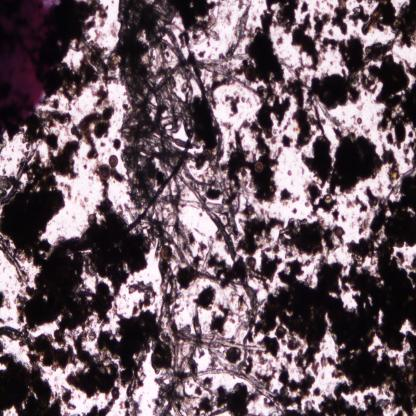Background material: (254, 258, 416, 416), (0, 234, 121, 398), (116, 2, 231, 153), (0, 110, 106, 254), (227, 13, 292, 203), (151, 231, 259, 342), (92, 309, 185, 413), (82, 169, 150, 292), (49, 1, 123, 103), (343, 166, 416, 266), (361, 52, 416, 158), (0, 345, 78, 414), (310, 34, 380, 102), (191, 158, 243, 243), (328, 119, 384, 193), (240, 220, 340, 261), (292, 104, 334, 186), (350, 0, 416, 48), (292, 0, 324, 70), (194, 287, 229, 338), (306, 182, 341, 220), (127, 279, 158, 316), (266, 0, 298, 33), (380, 148, 402, 180), (312, 8, 331, 43), (332, 0, 348, 37), (223, 93, 242, 118), (346, 193, 367, 213), (278, 188, 300, 206), (320, 34, 338, 54), (0, 291, 11, 312), (280, 133, 294, 147)
Cellulose filter fibre: (180, 365, 283, 412), (285, 61, 333, 121), (188, 334, 266, 354), (197, 50, 250, 79), (0, 244, 29, 284)
Cotton: (127, 130, 196, 234)
Diatom: (160, 244, 174, 262), (244, 63, 256, 82), (99, 164, 111, 180), (227, 348, 238, 363), (108, 154, 119, 168), (102, 108, 113, 122), (87, 214, 97, 226), (202, 149, 212, 160), (254, 161, 263, 173), (248, 256, 256, 268), (111, 387, 119, 399), (257, 236, 266, 246), (336, 226, 343, 238), (306, 400, 313, 412)
Pen: (0, 0, 77, 132)
